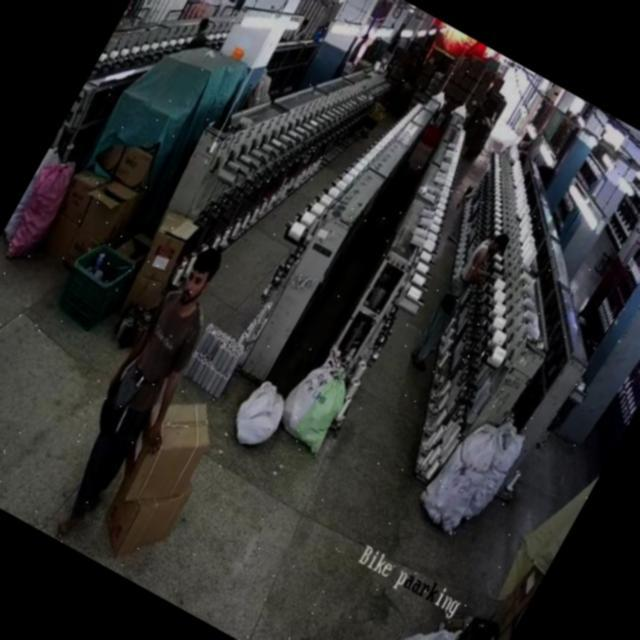person: (50, 245, 238, 531), (412, 219, 518, 374)
